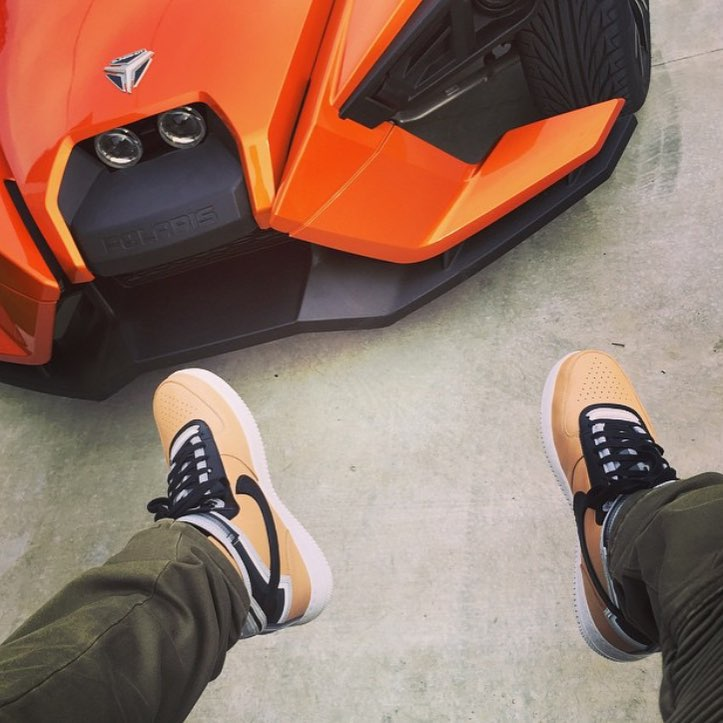sneaker: (511, 329, 723, 677), (124, 344, 355, 658)
